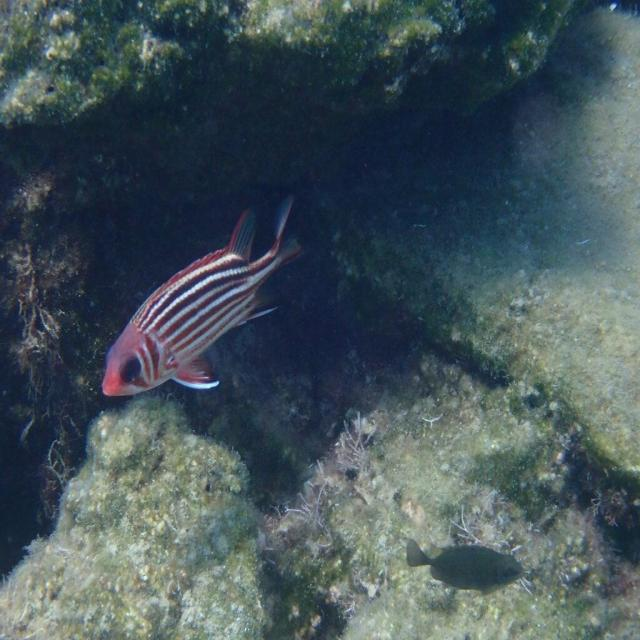Asker Baligi: (94, 178, 311, 425)
